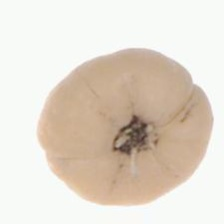L4: (37, 48, 214, 207)
